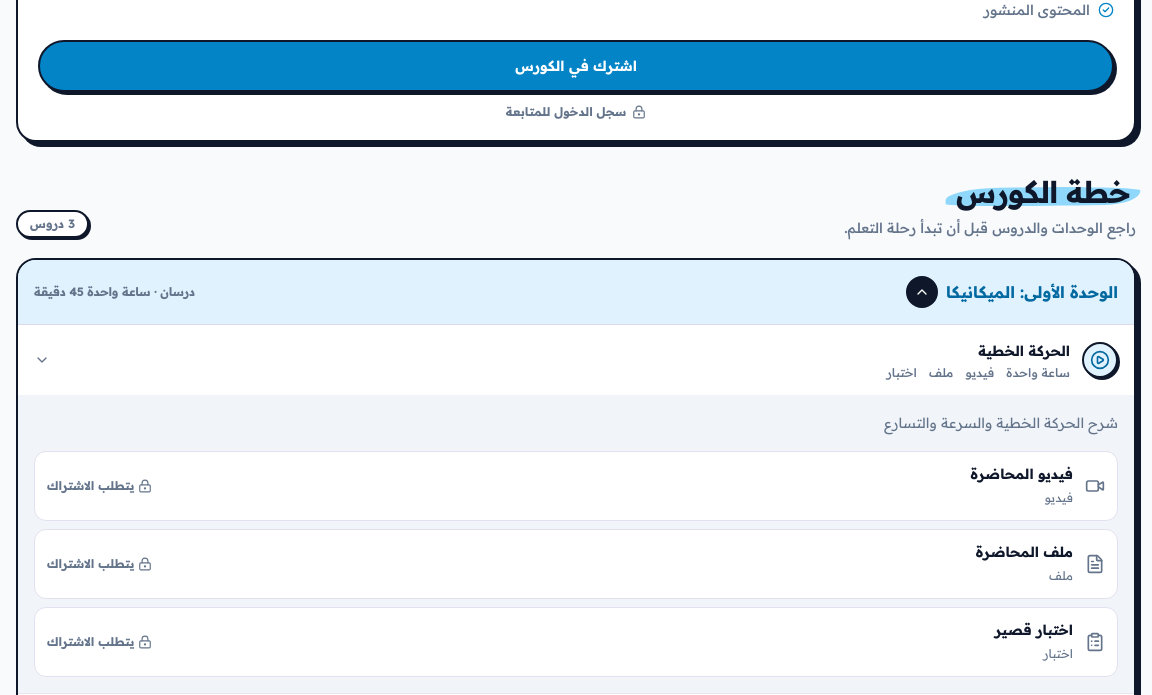
Test case: StudentCourseDetailPreview › collapse works for lessons
(page scrolled)
First lesson is auto-expanded, click to collapse
Click the button "الحركة الخطية" at (1100, 360), box [18, 325, 1134, 395]
(page scrolled)
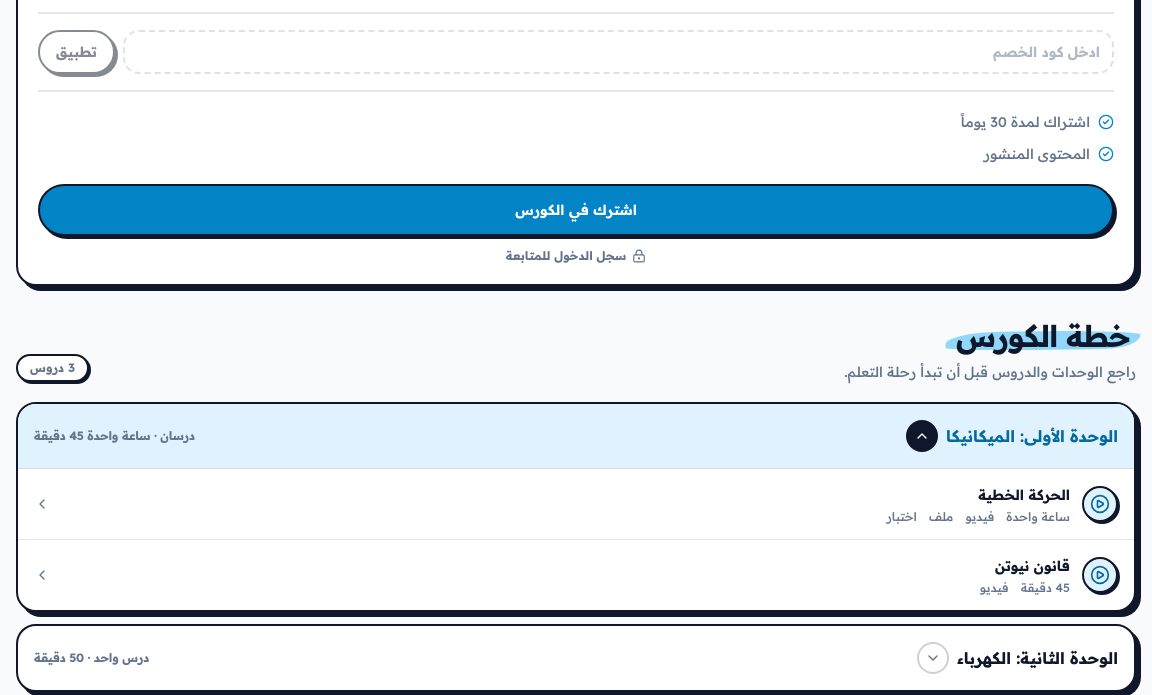
Expected: the text "فيديو المحاضرة" is gone
